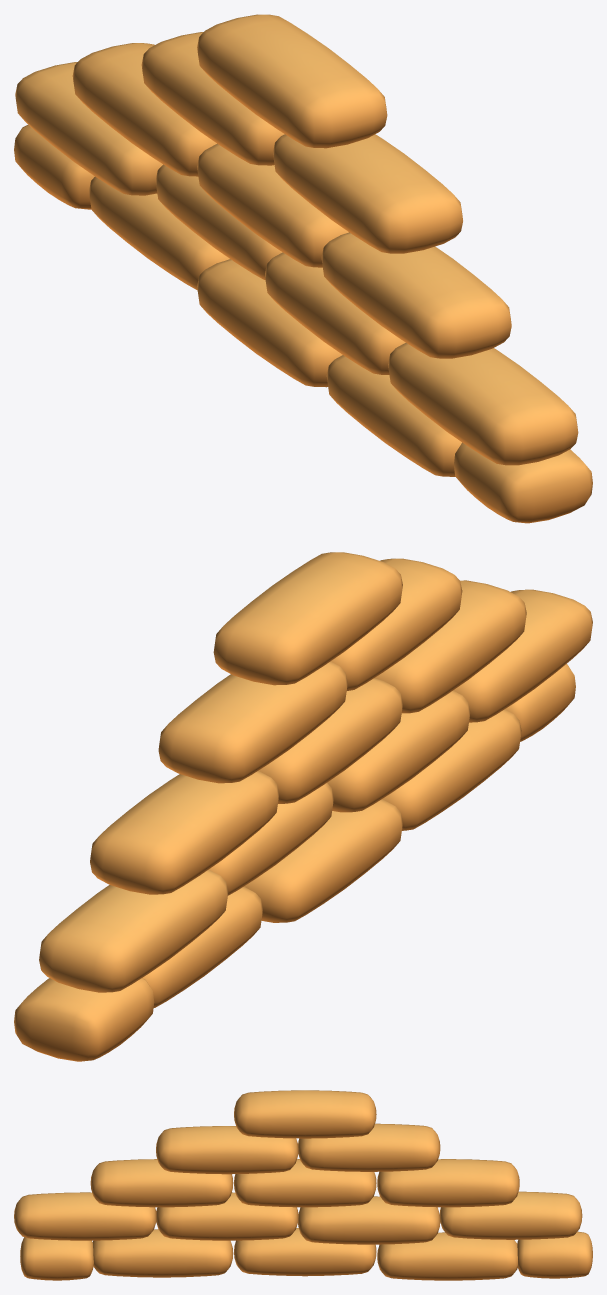
File: SandWall02.fbx
3 views of the same model, one above another, from view 1: azimuth 30°, elevation 25°; view 2: azimuth 150°, elevation 25°; view 3: azimuth 270°, elevation 25° (orthographic). The views are drawn at different scales.
Visible parts, largest first — view 1: Sand Wall02; view 2: Sand Wall02; view 3: Sand Wall02.
Part boxes in pixels (x1,y1,x2,y2): Sand Wall02: (14, 14, 592, 523); Sand Wall02: (14, 552, 592, 1061); Sand Wall02: (14, 1090, 592, 1280).
Bounding box in the file's own units: 0.4742 × 3.87 × 1.29.
